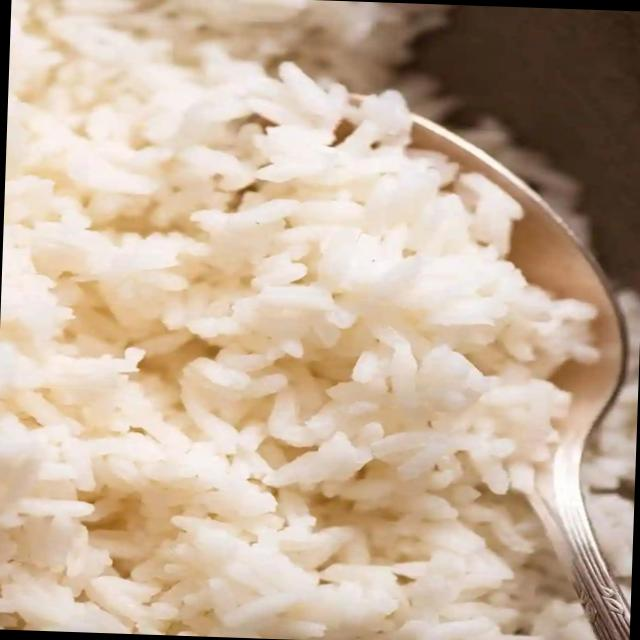rice: (0, 0, 600, 640)
